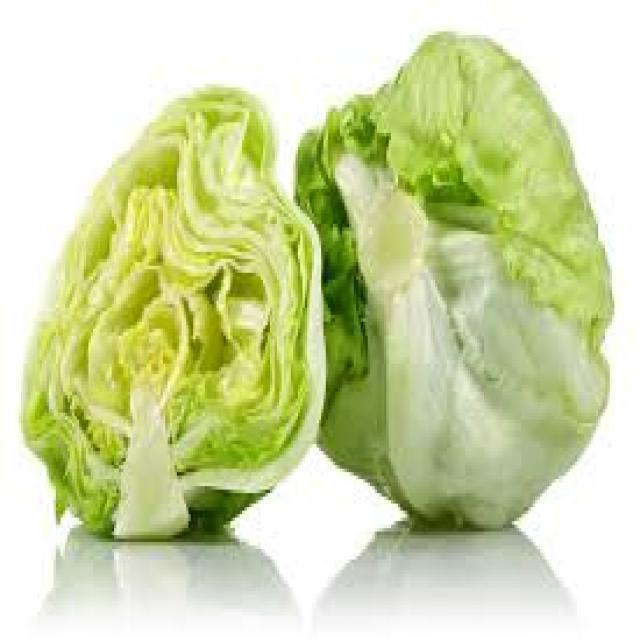Lettuce: (300, 27, 613, 538), (25, 78, 330, 547)
